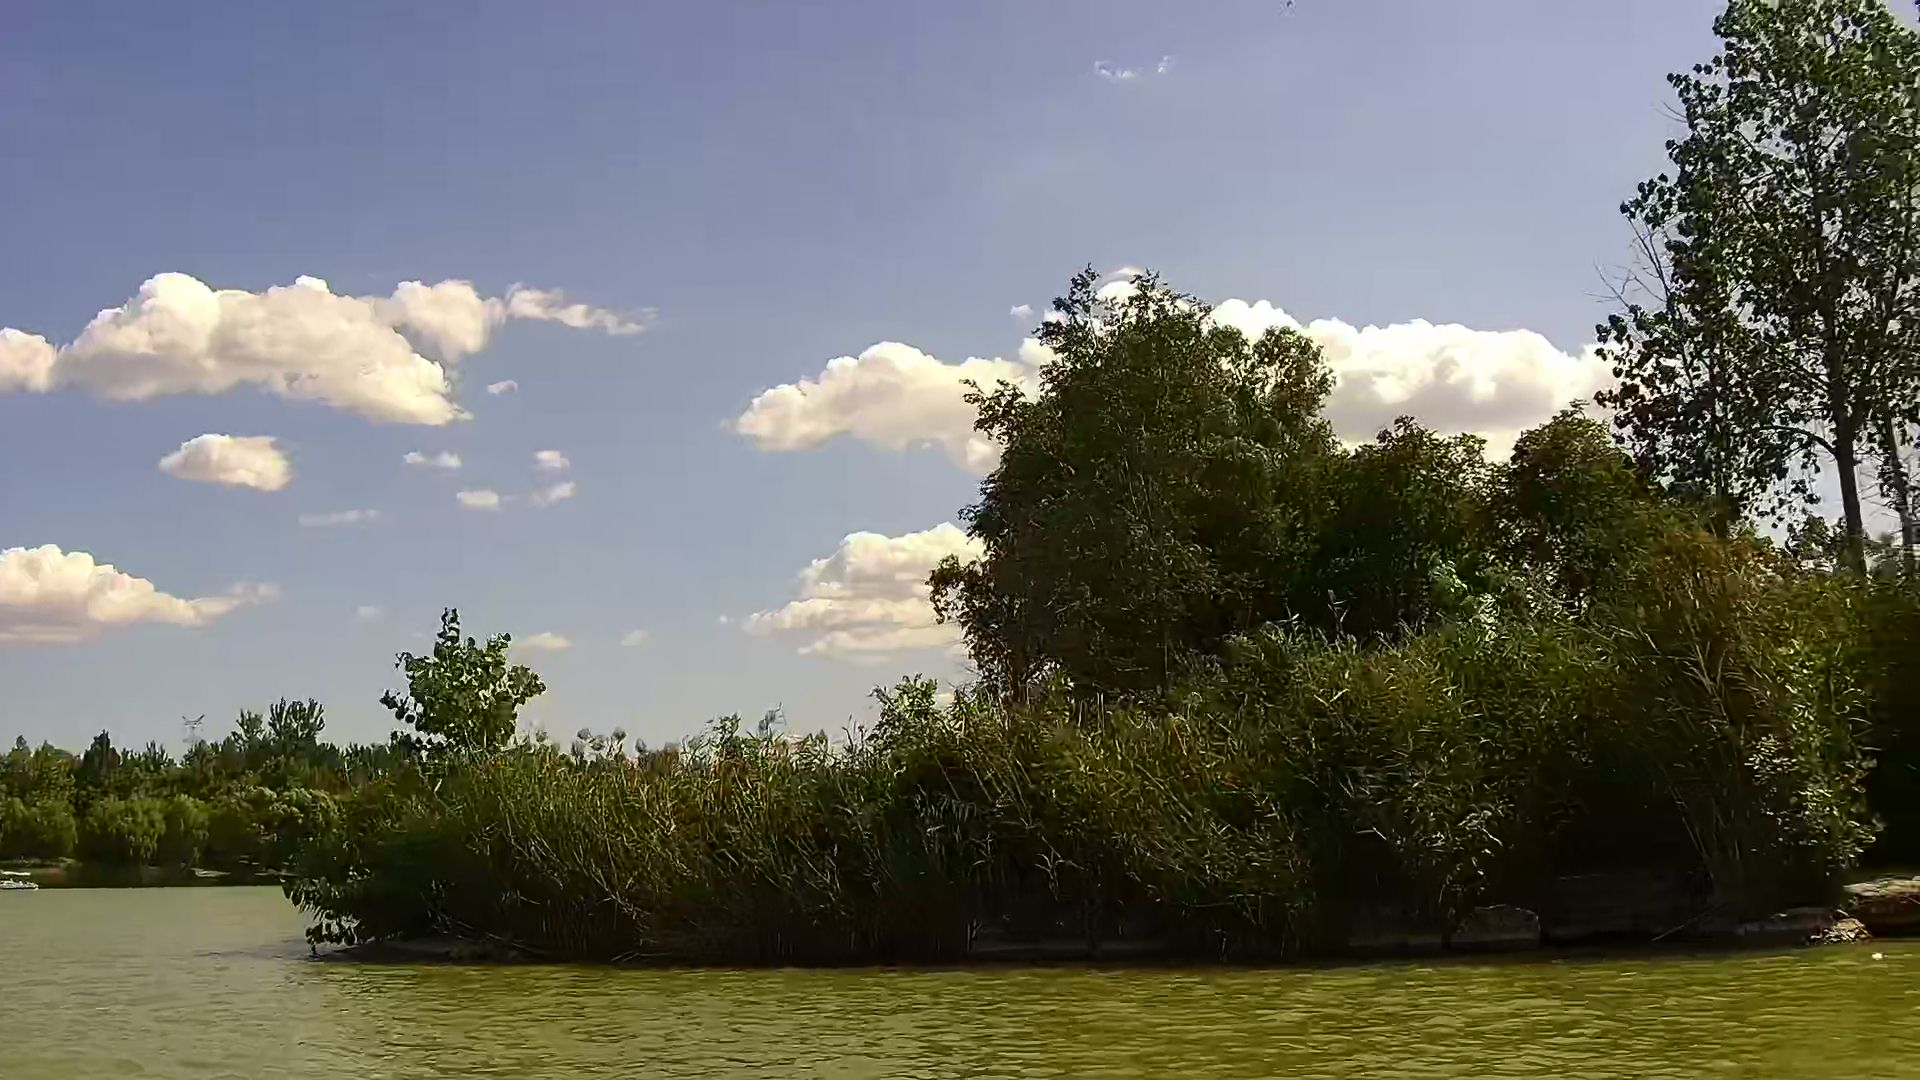boat: (1, 872, 38, 893)
